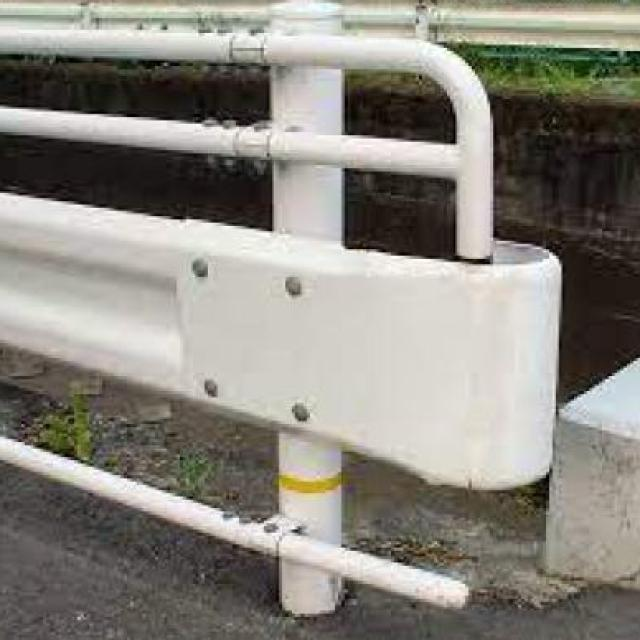Guard rail: (0, 0, 561, 619)
